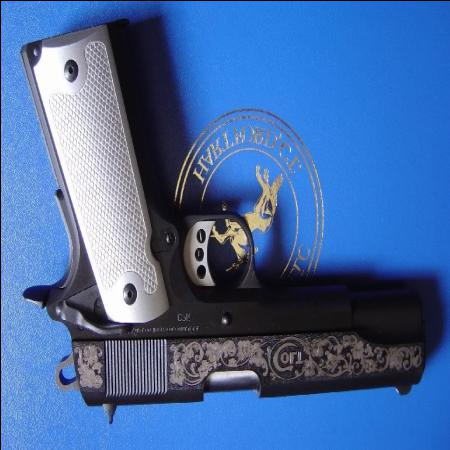Pistol: (14, 25, 428, 430)
